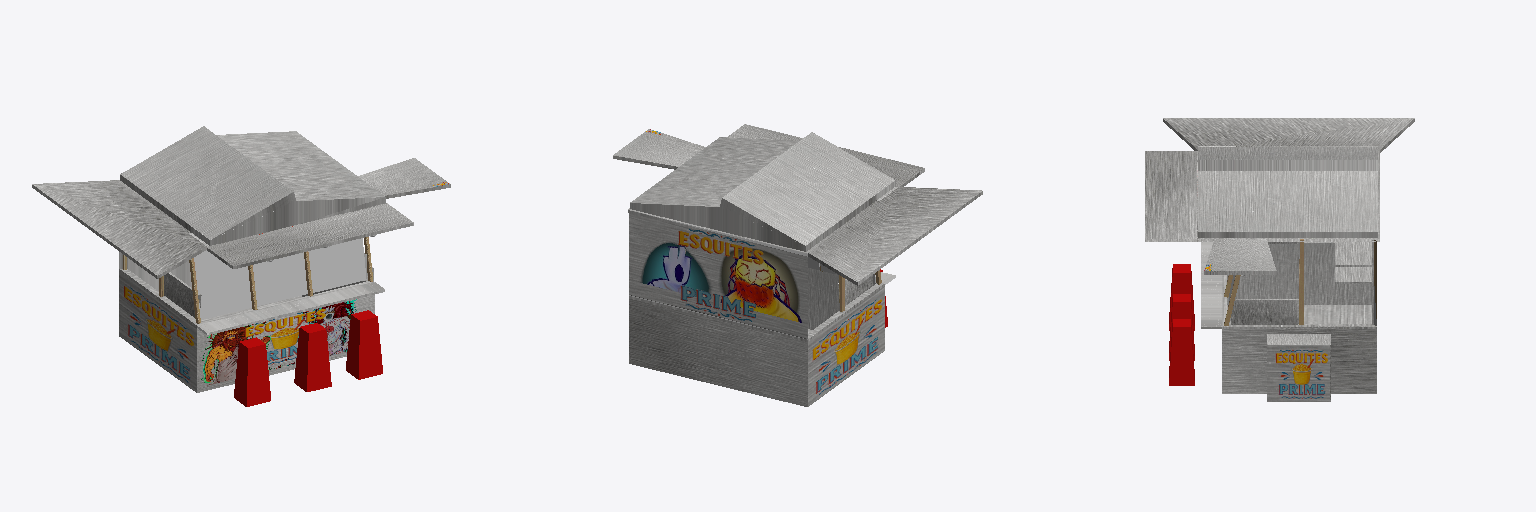
3 views of the same model, side by side, from view 1: azimuth 30°, elevation 25°; view 2: azimuth 150°, elevation 25°; view 3: azimuth 270°, elevation 25° (orthographic).
Visible parts, largest first — view 1: base, ventana, banco1, banco1.002, banco1.001, tubos; view 2: base; view 3: base, banco1.002, tubos, banco1.001, banco1.
Part boxes in pixels (bbox=[...]): base: bbox=[32, 126, 450, 392]; ventana: bbox=[194, 238, 366, 319]; banco1: bbox=[294, 323, 331, 391]; banco1.002: bbox=[346, 310, 382, 379]; banco1.001: bbox=[234, 337, 270, 406]; tubos: bbox=[123, 237, 372, 323]; base: bbox=[613, 124, 982, 406]; base: bbox=[1145, 118, 1414, 401]; banco1.002: bbox=[1169, 319, 1194, 385]; tubos: bbox=[1224, 239, 1376, 325]; banco1.001: bbox=[1169, 264, 1194, 330]; banco1: bbox=[1169, 294, 1194, 360].
Size of the model in its own units: 5.22 by 3.02 by 3.88.
7 materials, 3 textured.